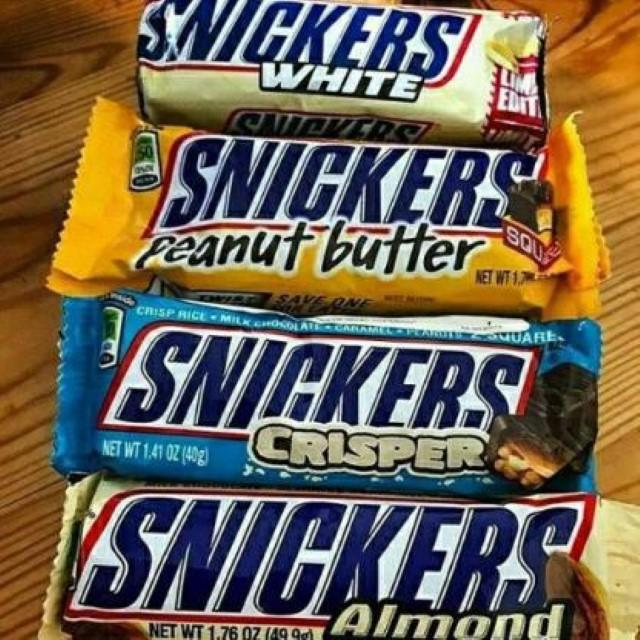snickers_chocolate: (43, 490, 595, 635), (75, 153, 602, 285), (68, 324, 587, 448), (135, 0, 560, 135)
